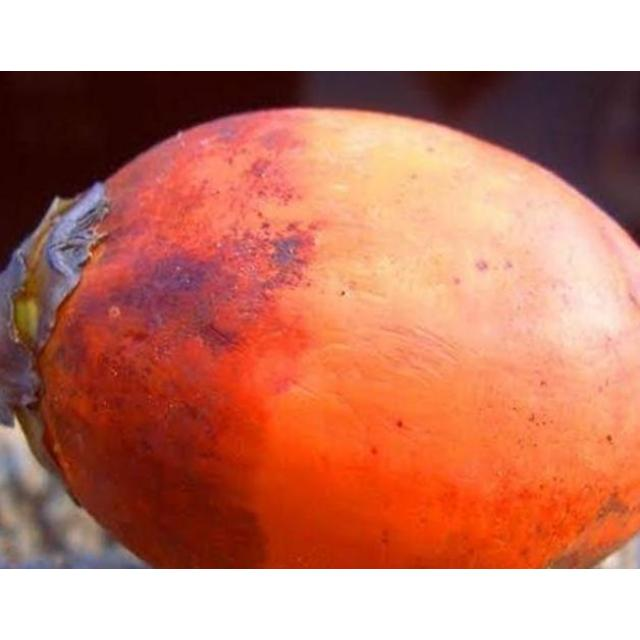good: (1, 108, 639, 568)
